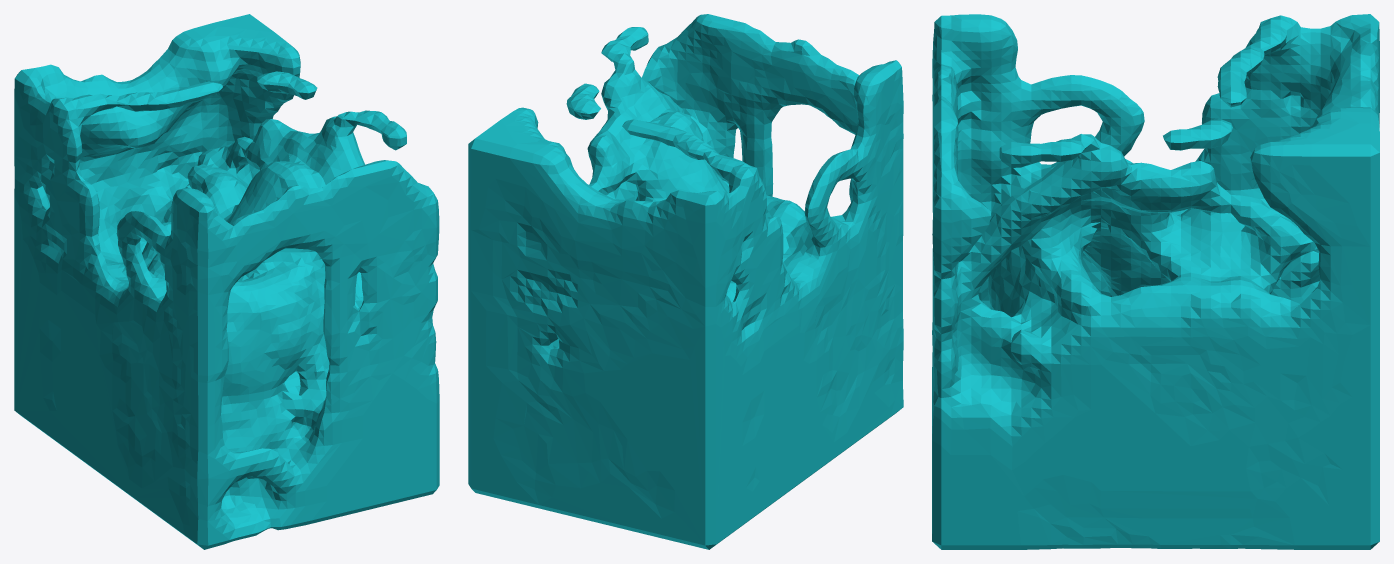
3 views of the same model, side by side, from view 1: azimuth 30°, elevation 25°; view 2: azimuth 150°, elevation 25°; view 3: azimuth 270°, elevation 25° (orthographic). The views are drawn at different scales.
Visible parts, largest first — view 1: Liquid_Domain; view 2: Liquid_Domain; view 3: Liquid_Domain.
Boxes of the visible parts, <box> form: Liquid_Domain: <box>14,14,439,549</box>; Liquid_Domain: <box>468,14,903,549</box>; Liquid_Domain: <box>932,14,1379,549</box>.
Bounding box in the file's own units: 79.12 × 108 × 108.
